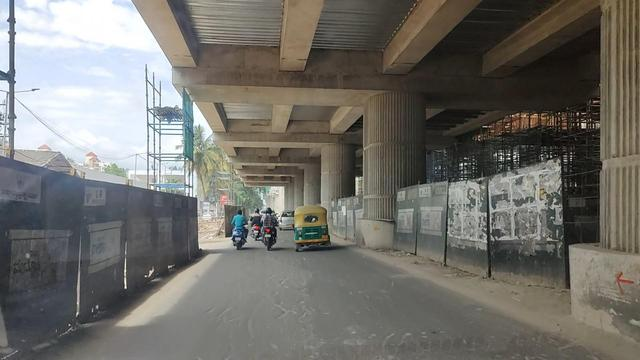LMV: (290, 197, 331, 261), (254, 202, 277, 262), (229, 205, 249, 259)
RoadDamages: (234, 300, 581, 359), (240, 259, 389, 309)
